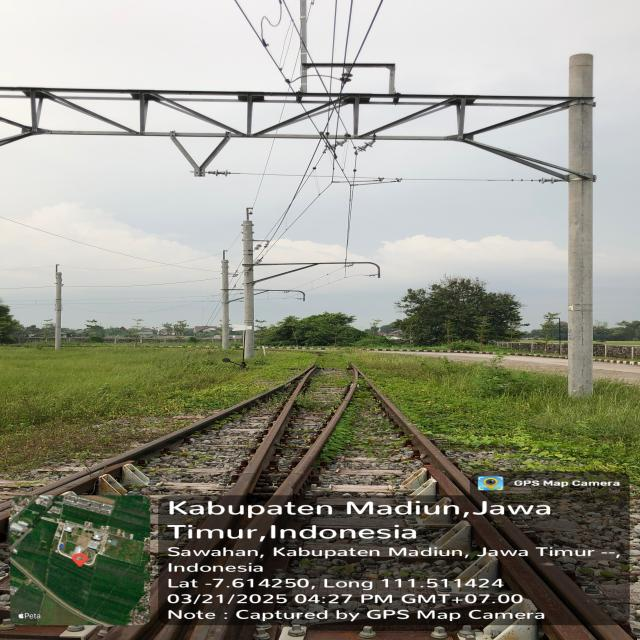rail-detection: (158, 364, 633, 640), (26, 365, 317, 496)
